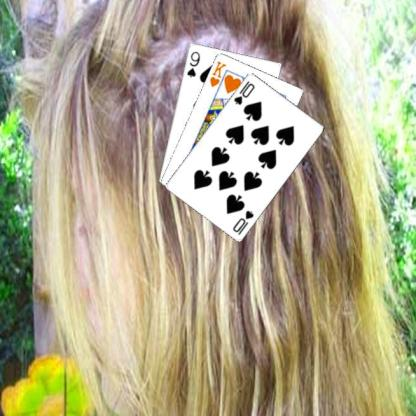10S: (230, 207, 255, 236), (231, 78, 256, 106)
9S: (184, 48, 201, 79)
KH: (206, 58, 228, 88)
